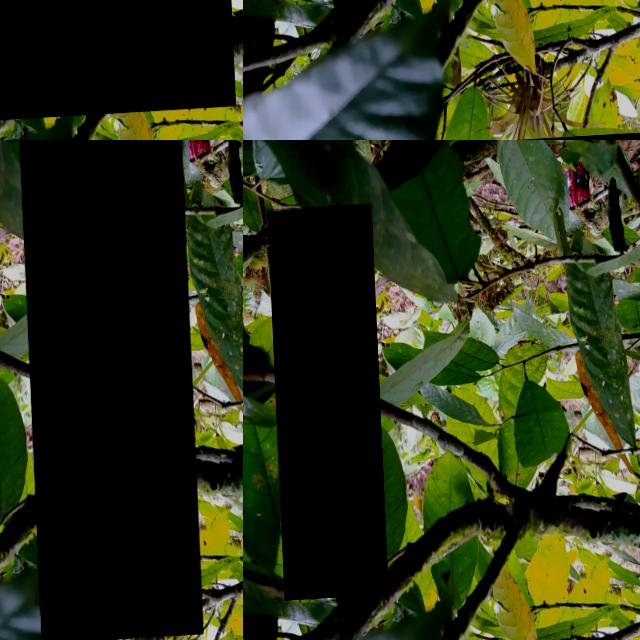Fitoftora: (266, 208, 384, 603), (0, 0, 231, 124)
Monilia: (15, 140, 197, 640)
